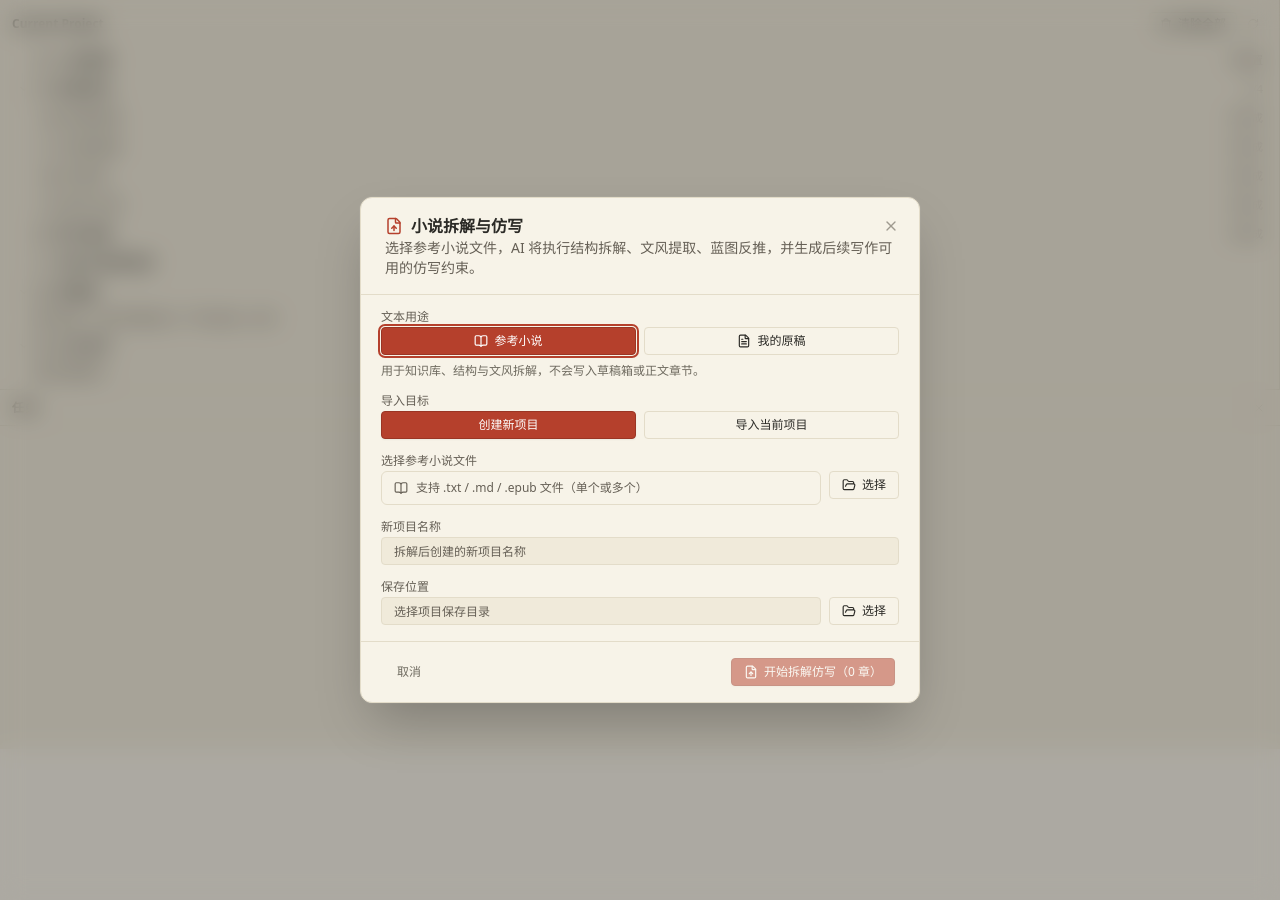
it: current-project reference import › shows only the persisted safe parsing failure after reopen
This screenshot has width=1280, height=900.
Click the button with test id "import-target-current": (772, 425) x1=644 y1=411 x2=899 y2=439
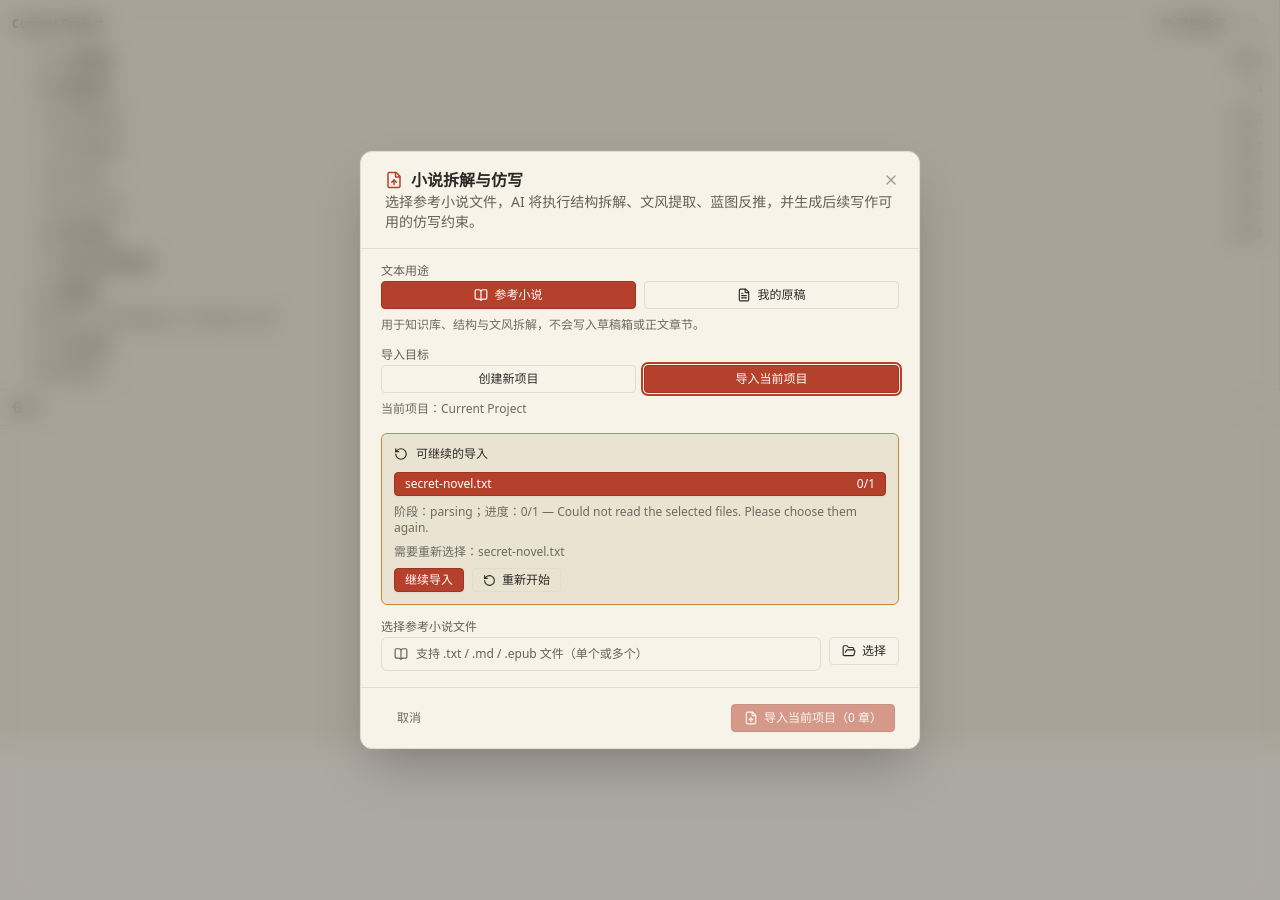
Now the element with test id "import-resumable-run" shows "Could not read the selected files. Please choose them again.", box x1=394 y1=503 x2=857 y2=536
